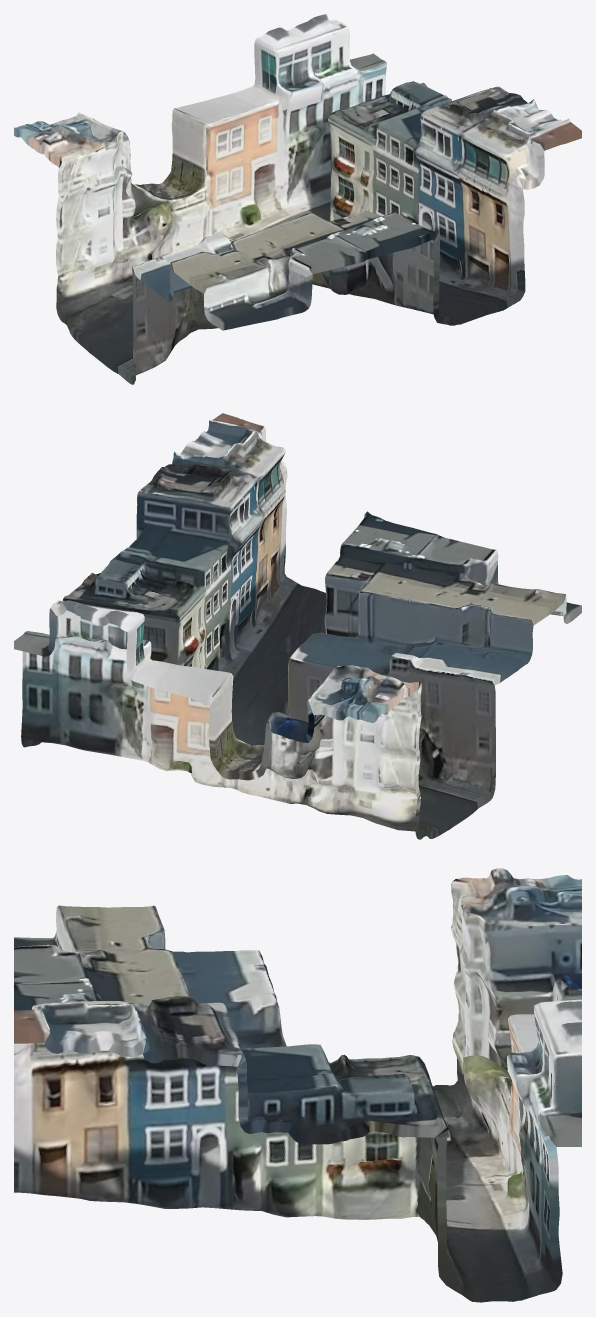
The model's file is z20-167750-405193-h0-yup-uvflip-v3-world.glb.
The picture shows the model from 3 angles, top to bottom: view 1: azimuth 30°, elevation 25°; view 2: azimuth 150°, elevation 25°; view 3: azimuth 270°, elevation 25°; orthographic projection. The views are drawn at different scales.
Bounding box in the file's own units: 30.16 × 18.92 × 30.32.
Materials: 1 (1 with a texture image).
